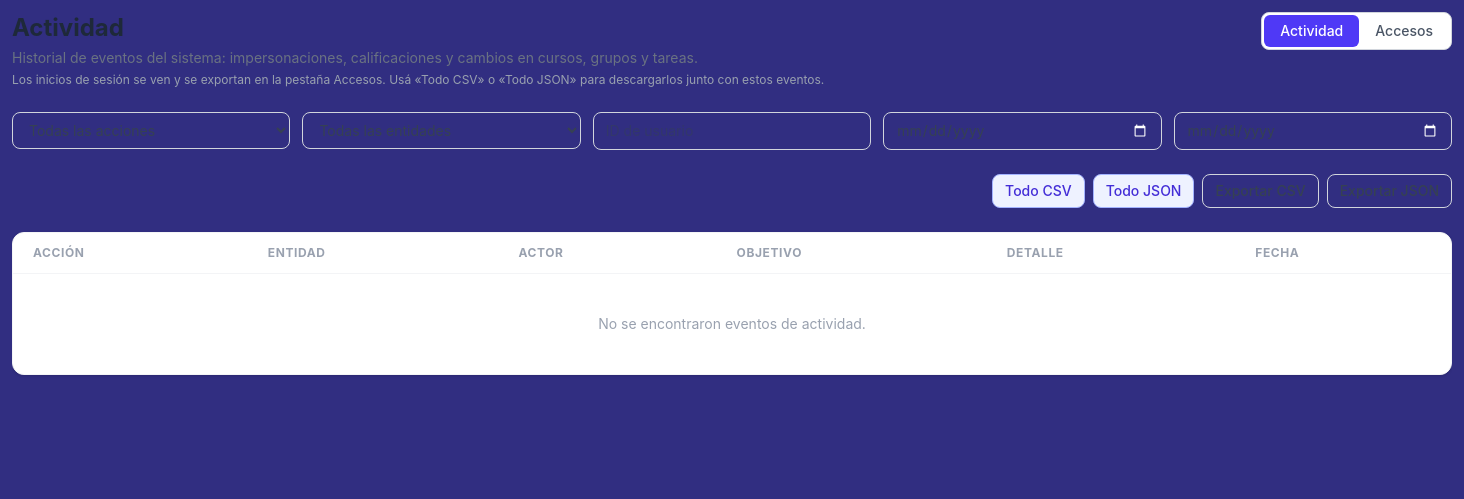
Test case: AdminActivityPage › no ofrece la exportación 'todo' en la pestaña Accesos
Step 1. Click the button "Accesos" → (1404, 31), box [1359,15,1449,47]
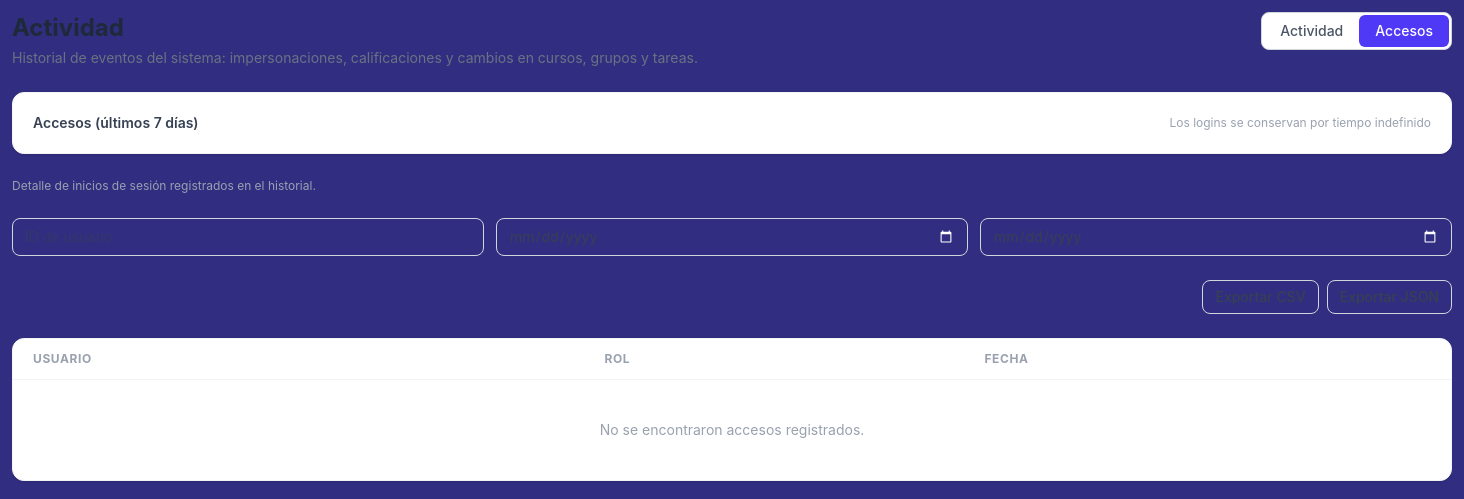
Expected: the text "Todo CSV" is gone
Expected: the text "Todo JSON" is gone
